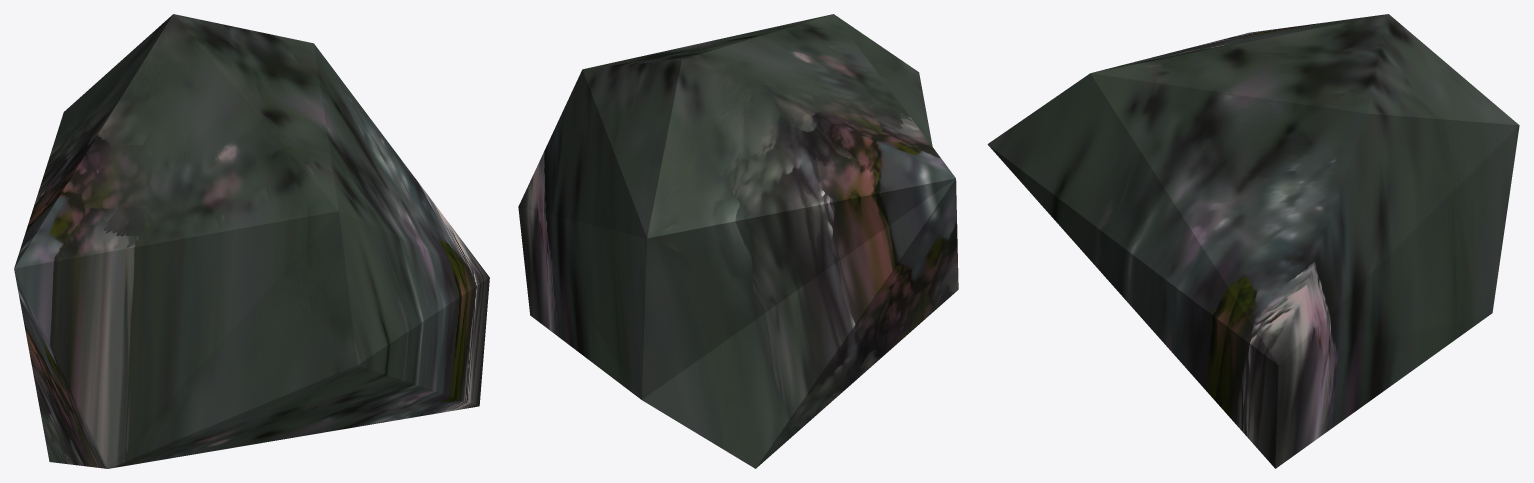
Rendered from TheOctagon_Floor_0_Rock_6.gltf.
3 views of the same model, side by side, from view 1: azimuth 30°, elevation 25°; view 2: azimuth 150°, elevation 25°; view 3: azimuth 270°, elevation 25° (orthographic). The views are drawn at different scales.
Parts seen in each view (by area): view 1: TheOctagon_Floor_0_Rock_6; view 2: TheOctagon_Floor_0_Rock_6; view 3: TheOctagon_Floor_0_Rock_6.
Part boxes in pixels (x1=…): TheOctagon_Floor_0_Rock_6: x1=14, y1=14, x2=489, y2=468; TheOctagon_Floor_0_Rock_6: x1=518, y1=14, x2=958, y2=468; TheOctagon_Floor_0_Rock_6: x1=987, y1=14, x2=1519, y2=468.
Bounding box in the file's own units: 1.56 × 1.32 × 1.68.
Materials: 1 (1 with a texture image).
